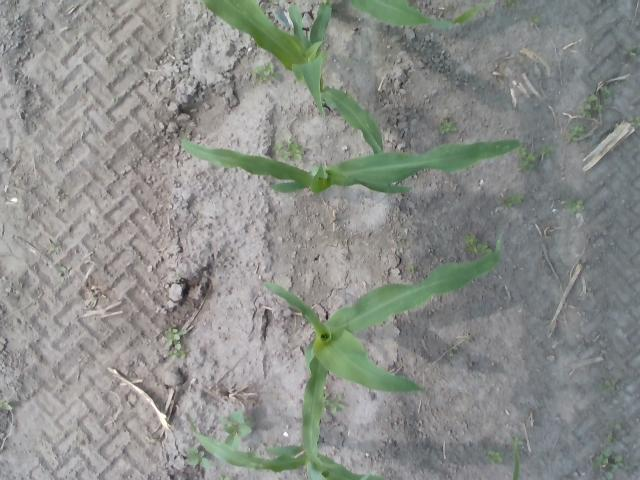Maize: (260, 226, 505, 468), (206, 0, 385, 158), (179, 138, 522, 194), (192, 430, 518, 479), (330, 2, 487, 29)
Weeds: (220, 411, 252, 443), (596, 449, 622, 480), (565, 123, 585, 145), (584, 92, 600, 118), (190, 451, 207, 469), (519, 152, 537, 169), (257, 62, 273, 80), (330, 394, 344, 412), (168, 329, 188, 341), (488, 450, 502, 466), (440, 120, 456, 134), (606, 377, 620, 391), (474, 241, 490, 252), (274, 142, 288, 154), (536, 146, 552, 156), (292, 147, 306, 158), (466, 231, 476, 246), (284, 140, 298, 150), (616, 424, 626, 436), (504, 196, 516, 206), (574, 199, 584, 210), (600, 85, 610, 96), (529, 14, 539, 25), (55, 192, 65, 202), (504, 0, 516, 8), (51, 242, 61, 251), (0, 400, 9, 410), (170, 354, 189, 358), (60, 266, 70, 273), (406, 264, 414, 272), (218, 475, 230, 480)
